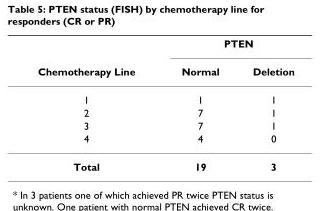table: (36, 36, 293, 172)
table column: (36, 36, 157, 172), (157, 36, 235, 172), (235, 36, 293, 172)
table column header: (36, 36, 293, 85)
table row: (36, 56, 293, 85), (36, 131, 293, 152), (36, 36, 293, 56), (36, 85, 293, 105), (36, 152, 293, 172), (36, 105, 293, 118), (36, 118, 293, 131)
table spanning cell: (36, 36, 157, 85), (157, 36, 293, 56)
